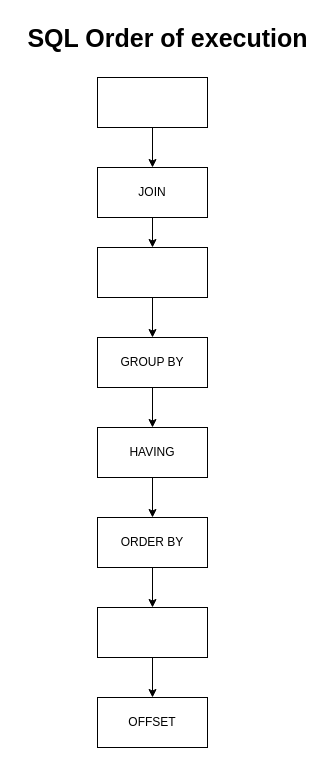
Image size: 334x765. Some labels were removed from this diagram. The box of each missing label's shape, as (x1, y1, x2, y2) in pixels:
From: (96, 76, 208, 128)
LIMIT: (96, 606, 208, 658)
WHERE: (96, 246, 208, 298)
